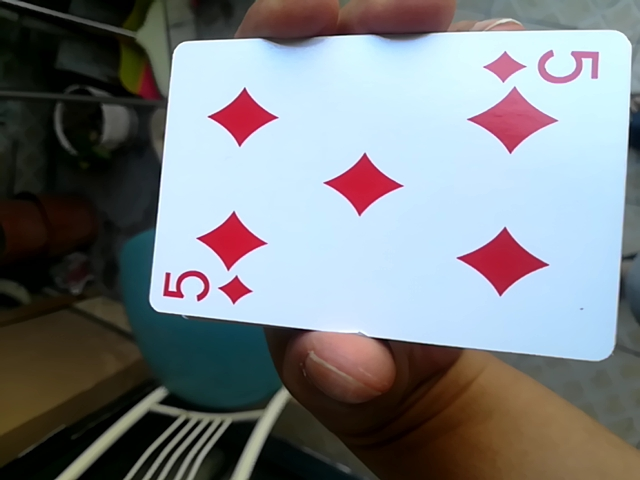fk 5: (151, 32, 640, 356)
